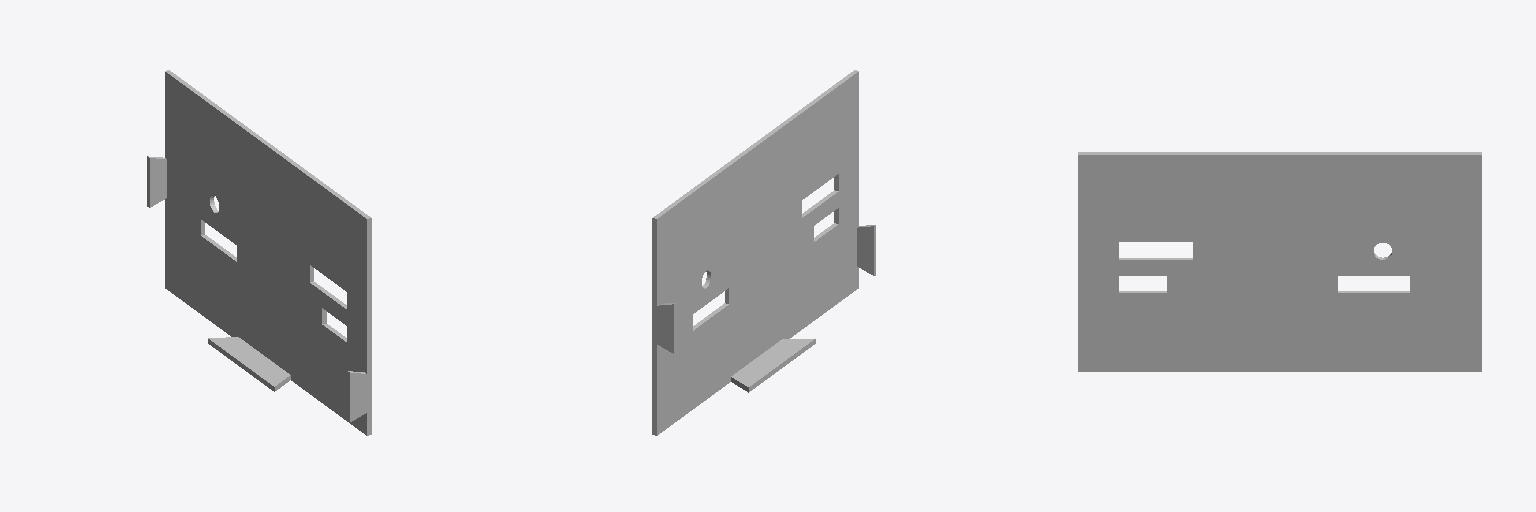
Rendered from Liquid Galaxy Voice Back Object.obj.
3 renders of one model, left to right at view 1: azimuth 30°, elevation 25°; view 2: azimuth 150°, elevation 25°; view 3: azimuth 270°, elevation 25°, orthographic.
Parts seen in each view (by area): view 1: Mesh1 Model; view 2: Mesh1 Model; view 3: Mesh1 Model.
Boxes of the visible parts, x1=… form: Mesh1 Model: x1=147, y1=70, x2=371, y2=435; Mesh1 Model: x1=652, y1=70, x2=875, y2=435; Mesh1 Model: x1=1078, y1=152, x2=1481, y2=371.
Size of the model in its own units: 23.07 by 165 by 278.